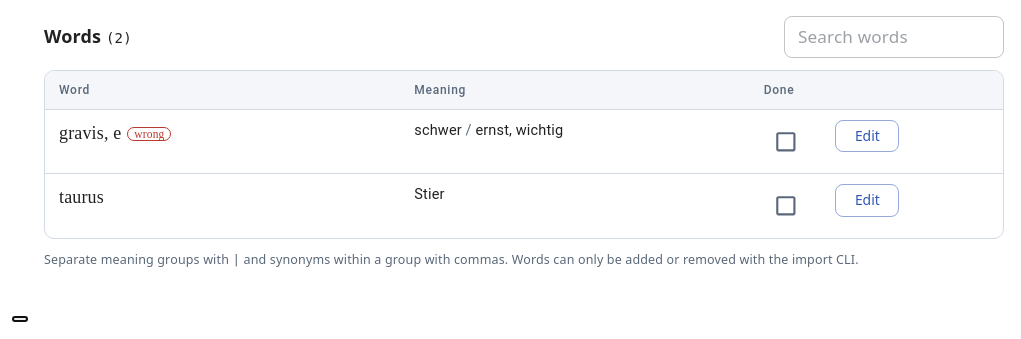
editing › fills the editor with the text form of the meanings and disables the check box of the row
Click the button with aria-label "Edit gravis, e": (867, 136) [835, 120, 899, 152]
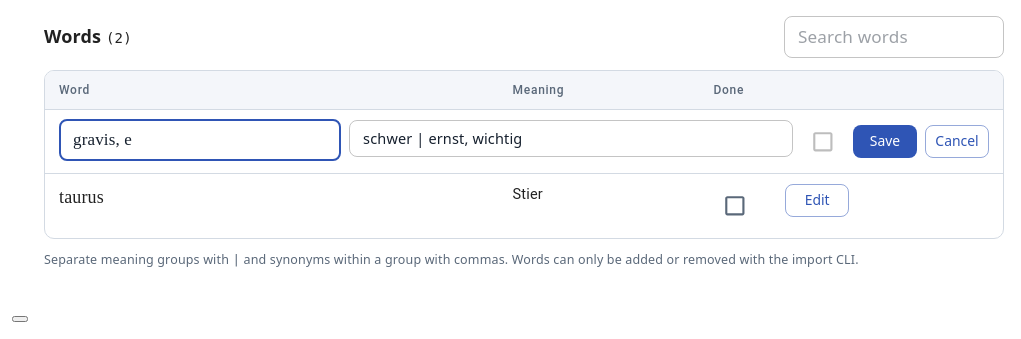
Expected: the field named "Word" holds "gravis, e", [59, 120, 341, 161]
Expected: the field named "Meaning" holds "schwer | ernst, wichtig", [349, 120, 793, 157]
Expected: the checkbox named "Done: gravis, e" is disabled, [810, 129, 836, 154]
